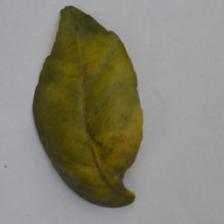greening: (54, 38, 148, 166)
